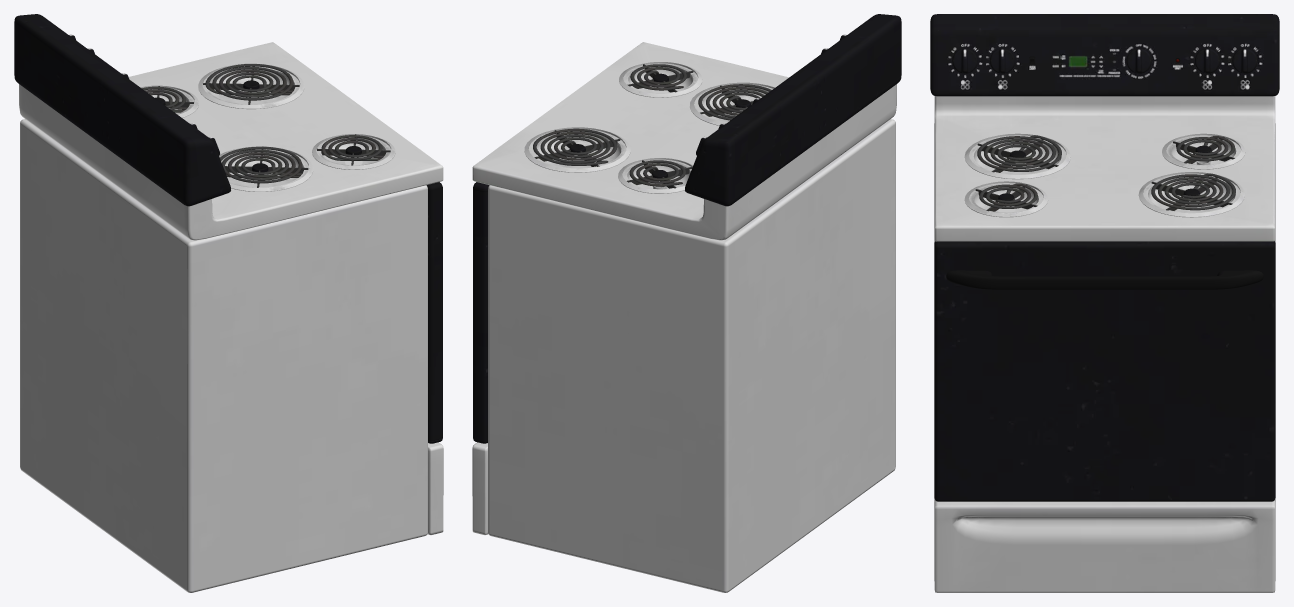
The model's file is stove01.glb.
3 renders of one model, left to right at view 1: azimuth 30°, elevation 25°; view 2: azimuth 150°, elevation 25°; view 3: azimuth 270°, elevation 25°, orthographic.
Parts seen in each view (by area): view 1: stove01; view 2: stove01; view 3: stove01.
Part boxes in pixels (x1,y1,x2,y2): stove01: (14,14,443,592); stove01: (472,14,901,592); stove01: (930,14,1279,592).
Bounding box in the file's own units: 0.5476 × 0.8635 × 0.6008.
Materials: 2 (2 with a texture image).
